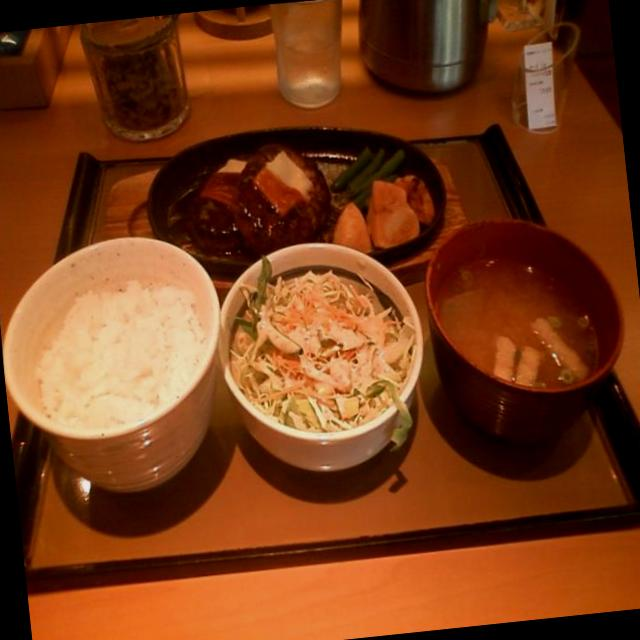Rice: (0, 231, 216, 451)
